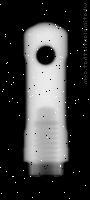Nobel Biocare: (23, 19, 69, 176)
